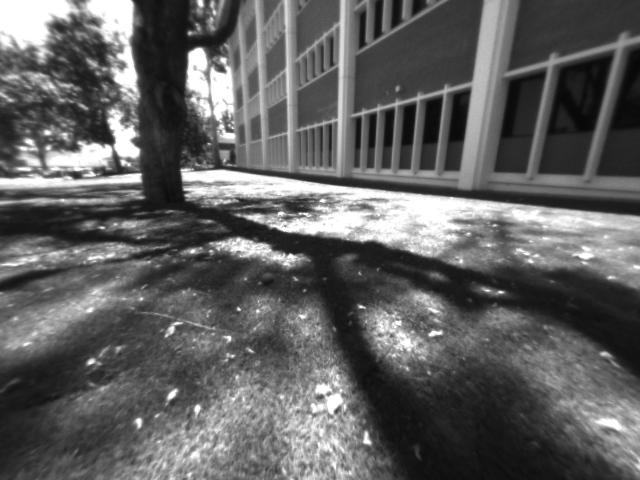dogtoy: (255, 265, 280, 288)
